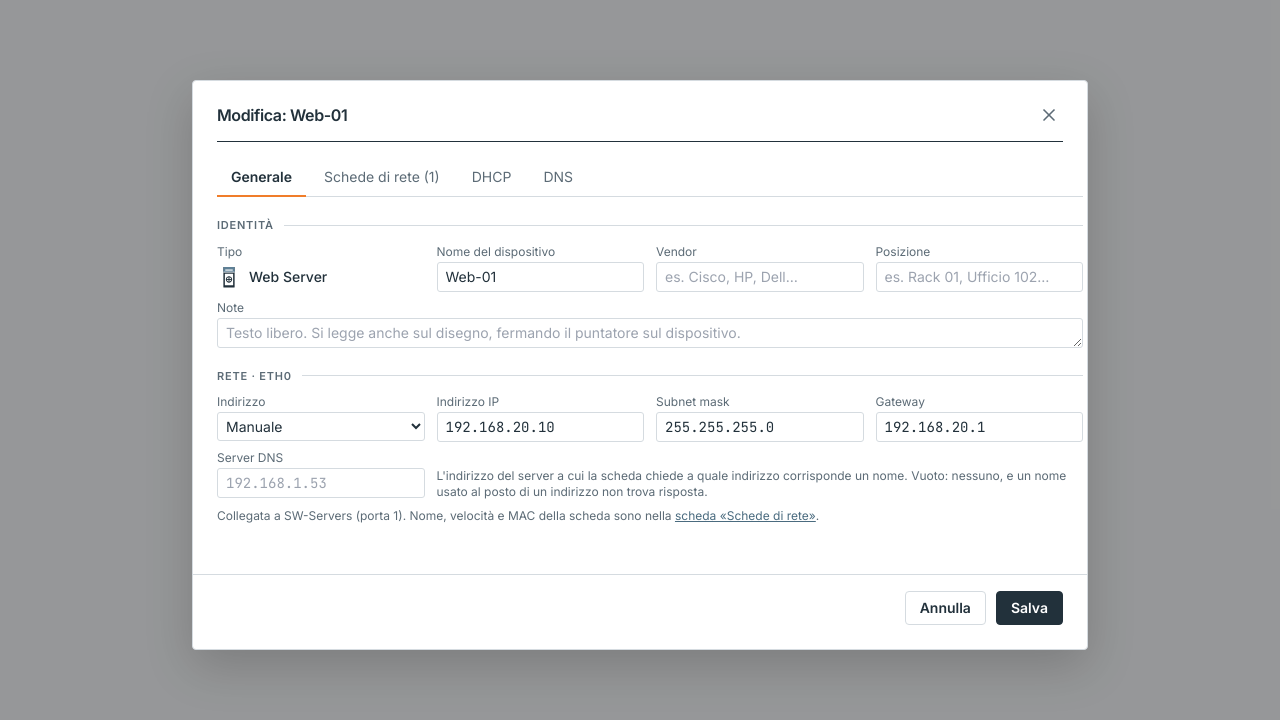
InspectorModal — the «DNS» tab of a server › starts with no names, and says what that means and at which address the server is asked
Click the button "DNS" at [558, 178], box x1=529 y1=158 x2=587 y2=197
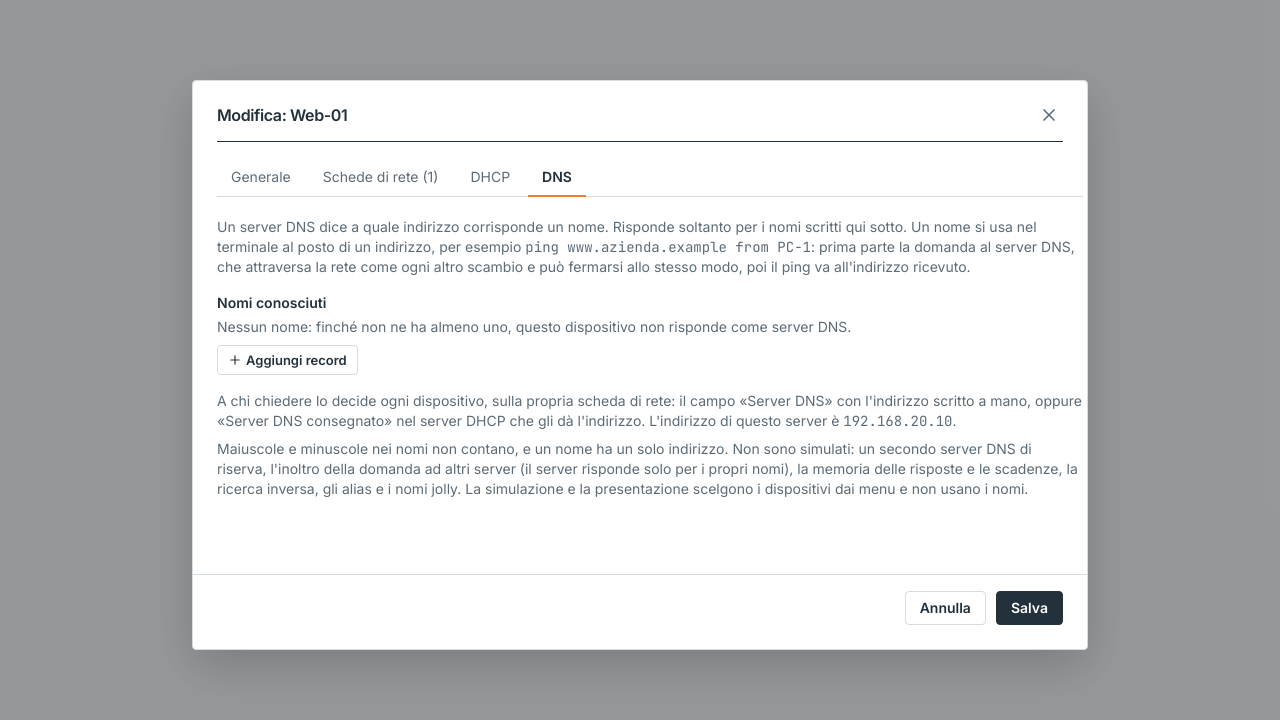
Check: the element named "Record DNS" shows "Nessun nome: finché non ne ha almeno uno, questo dispositivo non risponde come server DNS.", box x1=217 y1=318 x2=851 y2=335
